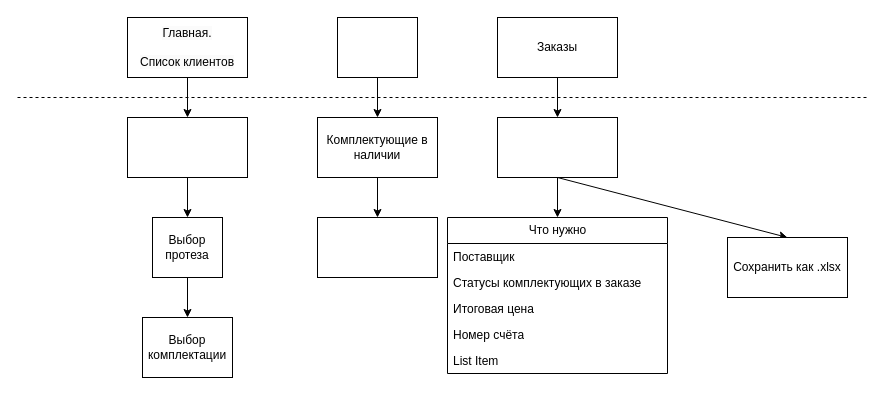
This 886x395 diagram has some shape labels left out. Each missing label, with the centre of its shape:
"По поставщикам" belongs at (557,147).
"Склад" belongs at (377,47).
"Список работ клиента" belongs at (187,147).
